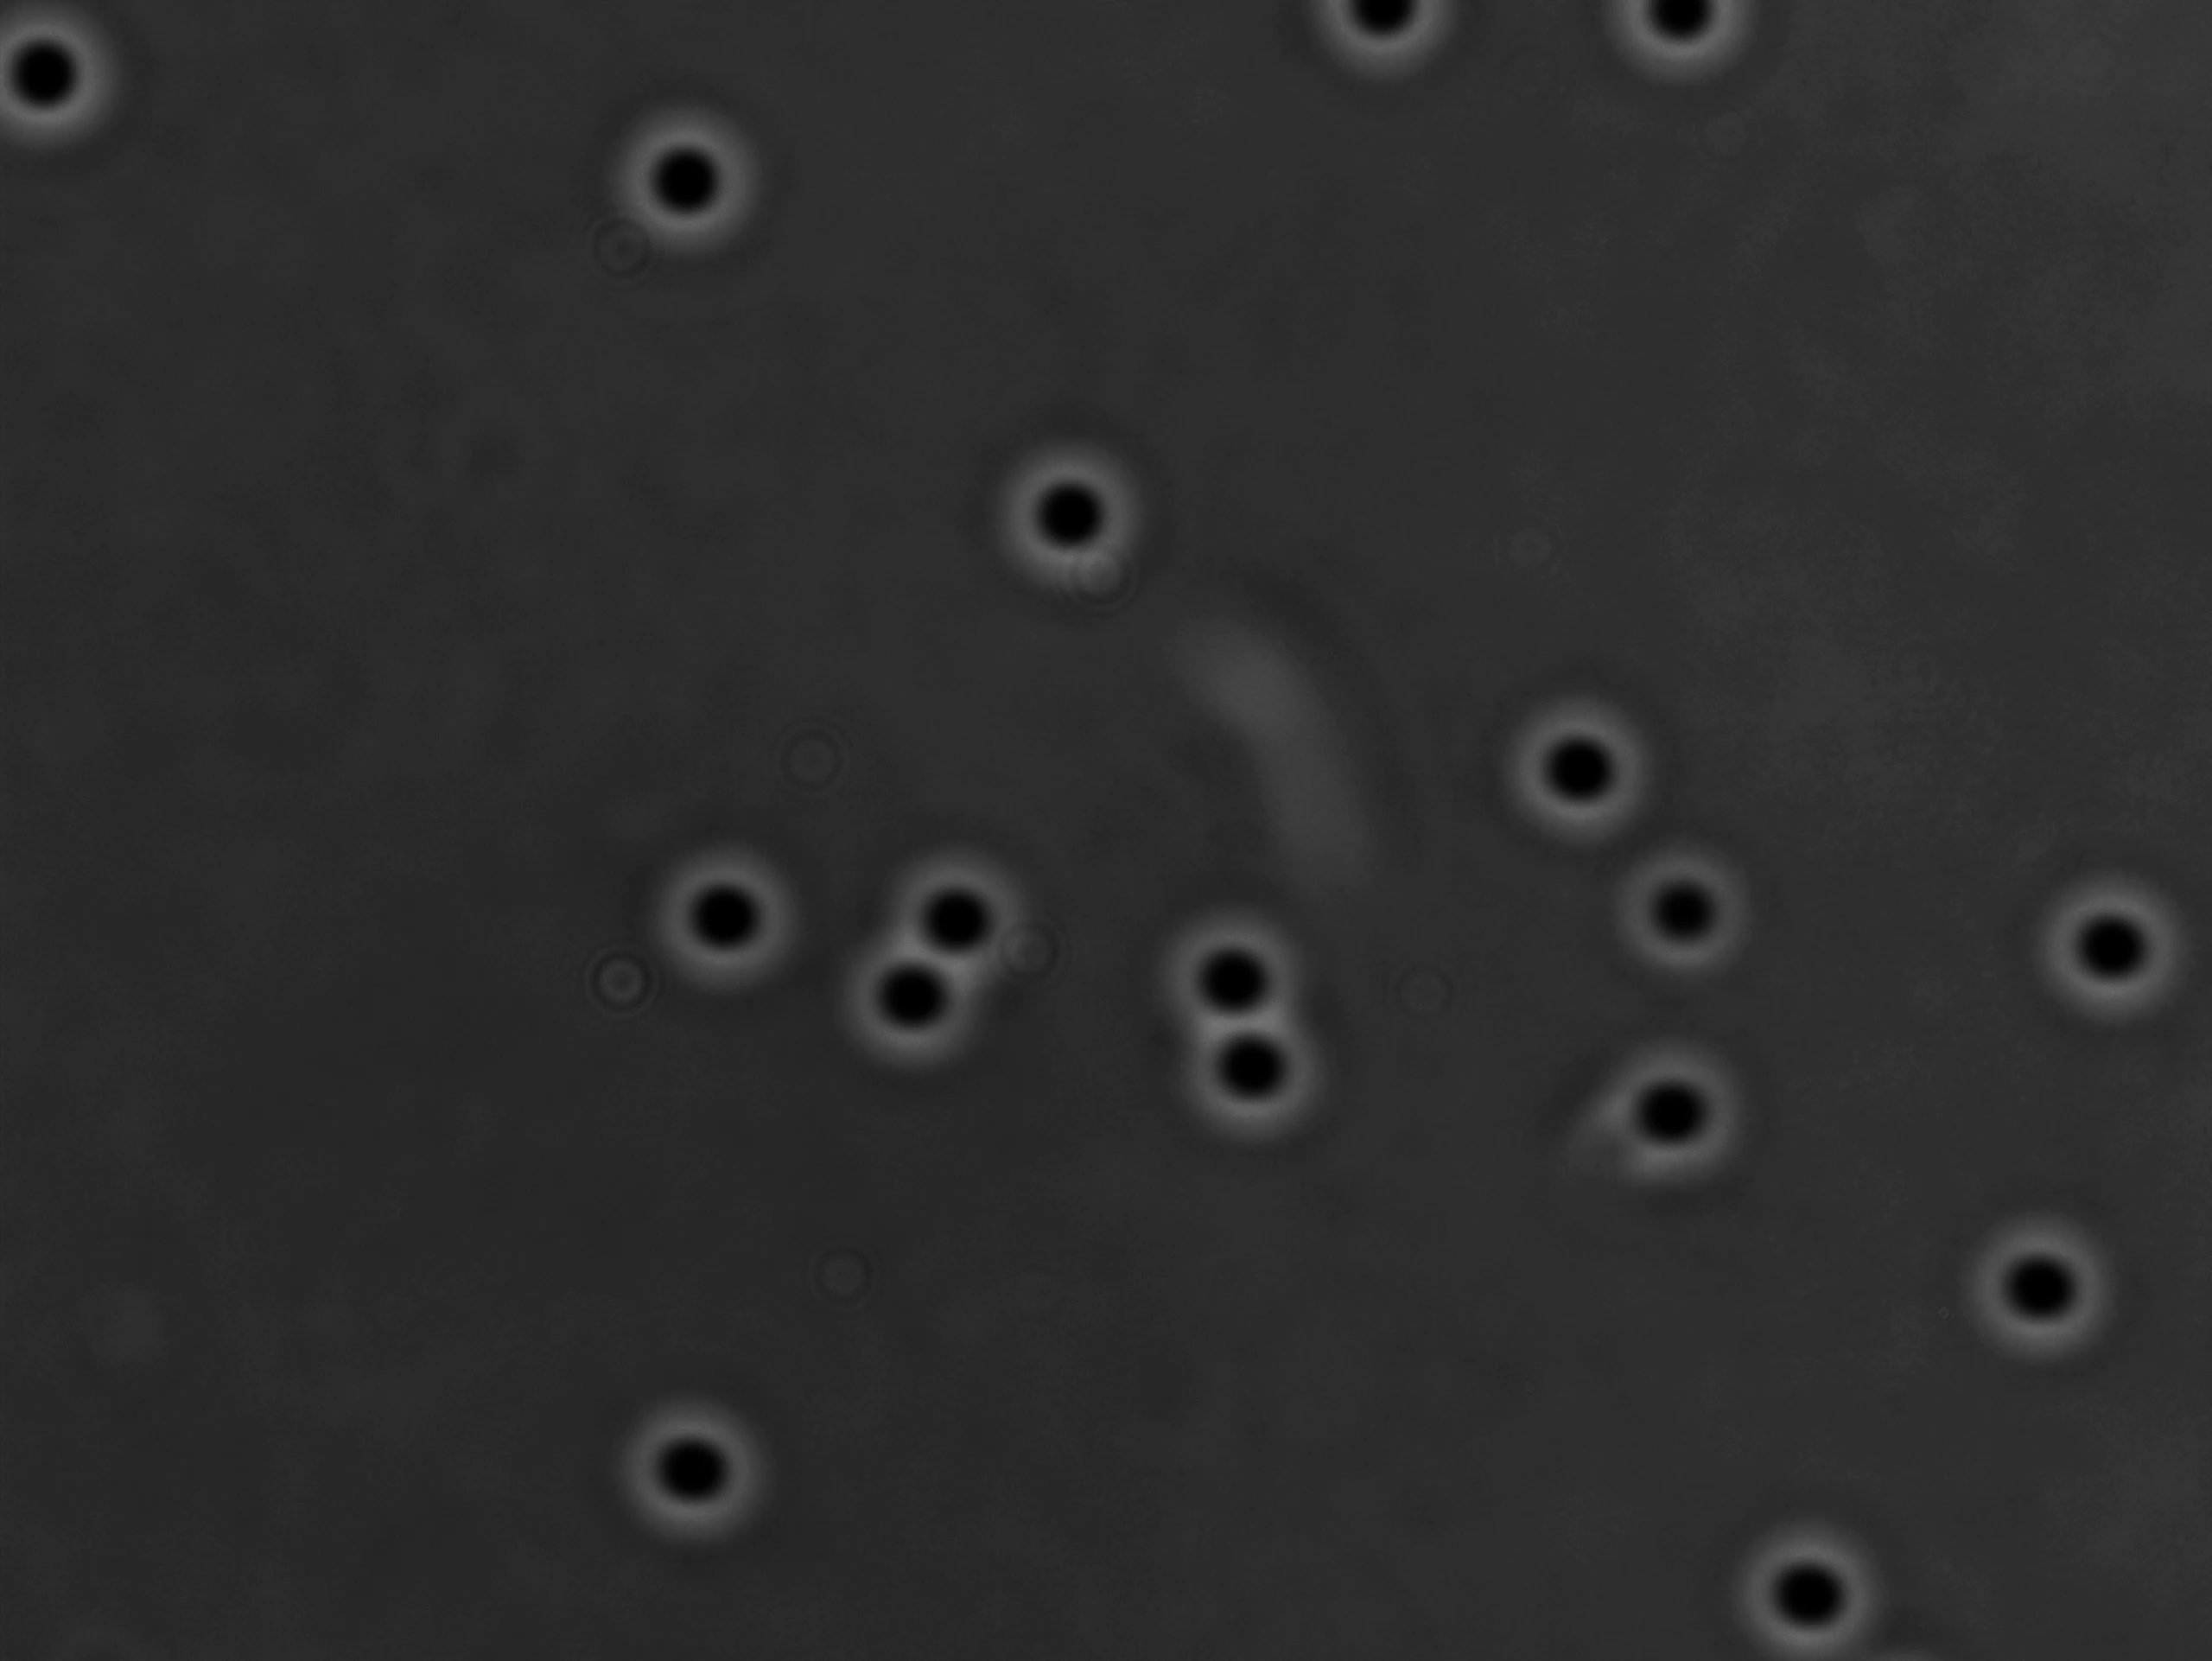depth:-80: (2010, 850, 2212, 1054), (1584, 804, 1779, 1003), (1938, 1195, 2139, 1382), (1584, 1022, 1786, 1206), (600, 1377, 795, 1562), (640, 824, 830, 1008), (600, 92, 792, 276), (1137, 888, 1335, 1064), (862, 830, 1043, 1014), (982, 429, 1169, 605), (1706, 1499, 1908, 1661), (825, 926, 1008, 1101), (1160, 986, 1347, 1157), (1492, 677, 1669, 855)
